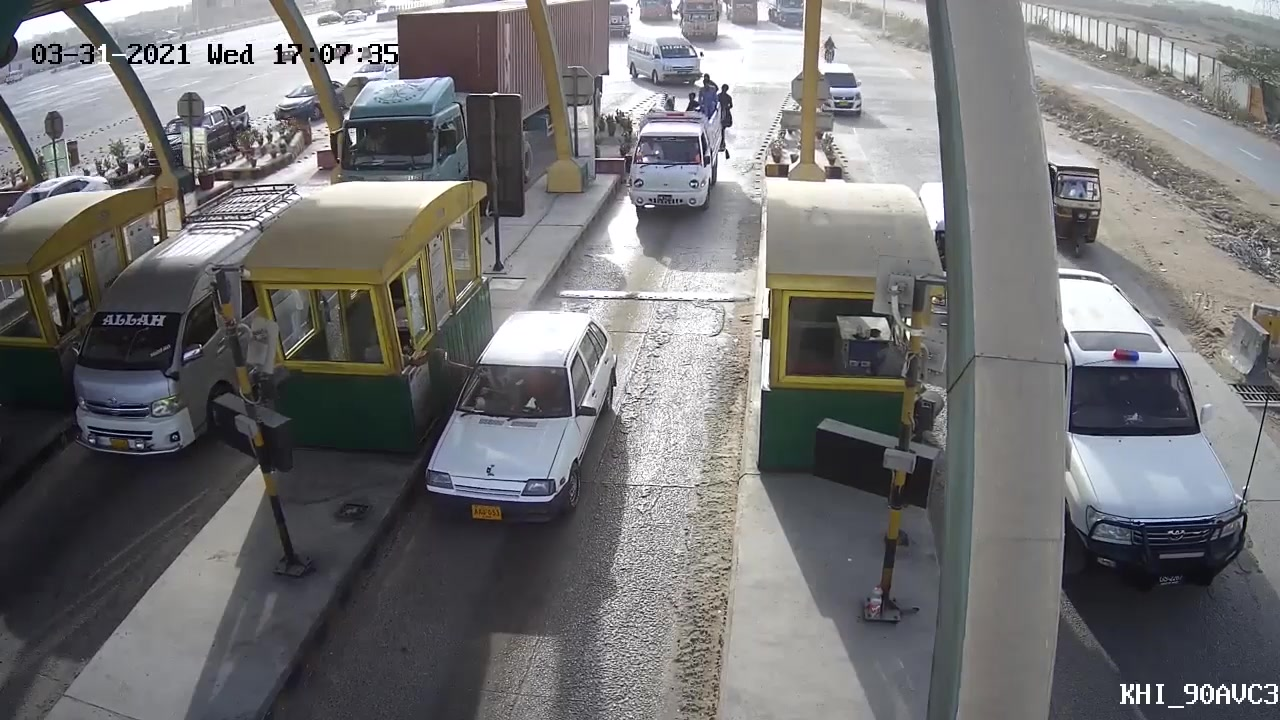F1: (412, 301, 625, 526)
F2: (615, 90, 733, 219)
